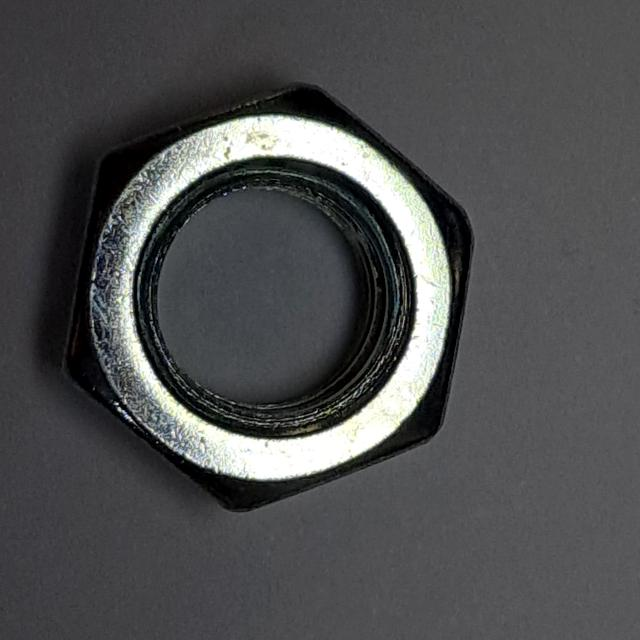Excellent: (53, 68, 483, 523)
